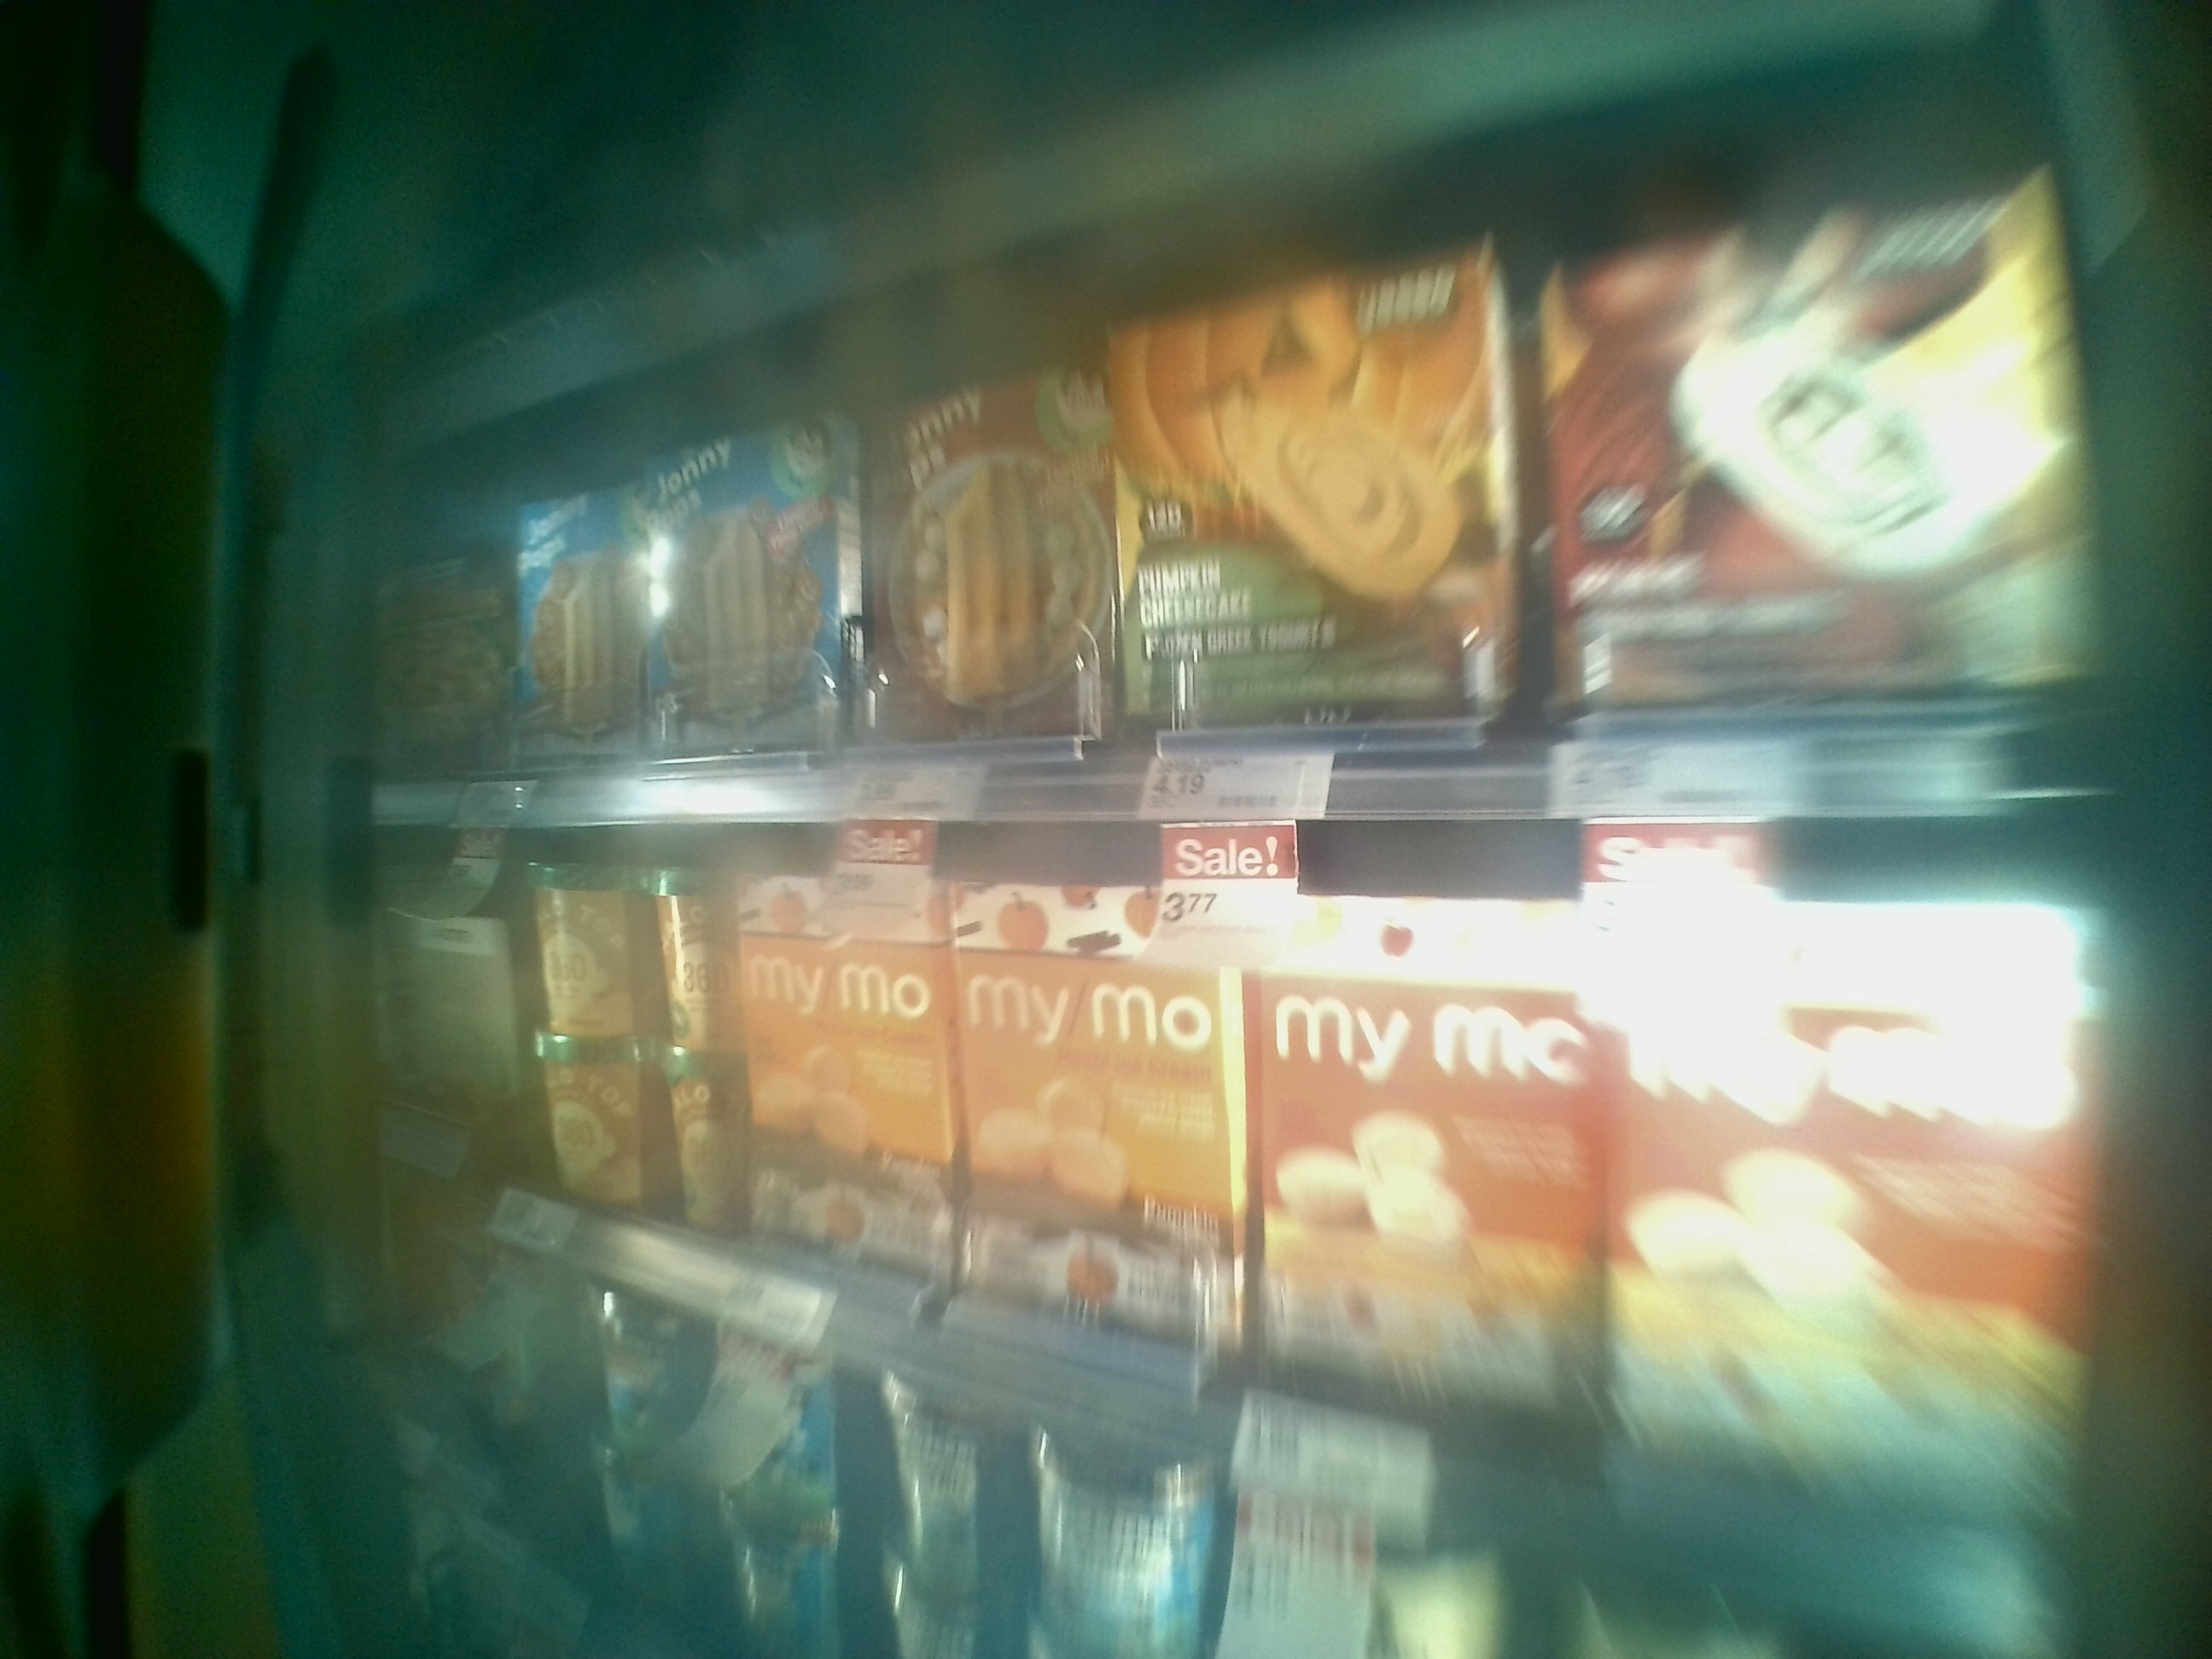shelf: (388, 791, 2121, 1614), (364, 300, 2163, 828)
